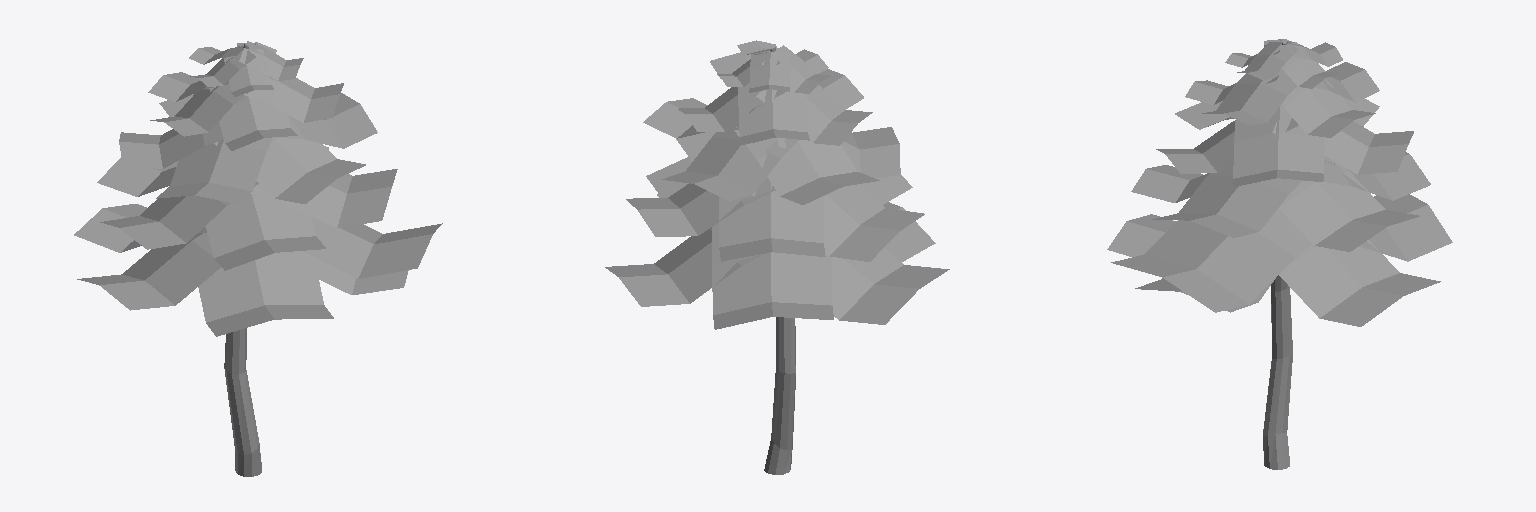
Rendered from Pine_4.obj.
The picture shows the model from 3 angles: view 1: azimuth 30°, elevation 25°; view 2: azimuth 150°, elevation 25°; view 3: azimuth 270°, elevation 25°; orthographic projection.
Parts seen in each view (by area): view 1: Pine_4; view 2: Pine_4; view 3: Pine_4.
Part boxes in pixels (bbox=[...]): Pine_4: bbox=[74, 41, 442, 476]; Pine_4: bbox=[605, 40, 949, 474]; Pine_4: bbox=[1107, 39, 1452, 469].
Size of the model in its own units: 4.31 by 5.67 by 4.18.